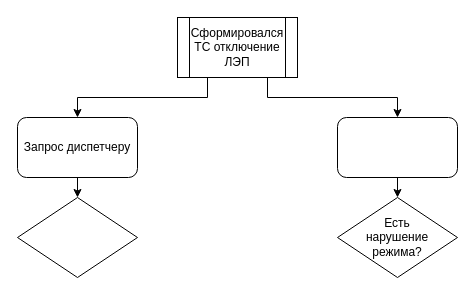
Image size: 475x295. Some labels were removed from this diagram. Here are the shapes that lost their labels. From the top down, the centre of each, then its label:
At pixel 397 147: "Запрос ОИК".
At pixel 77 237: "Отключение плановое?".
